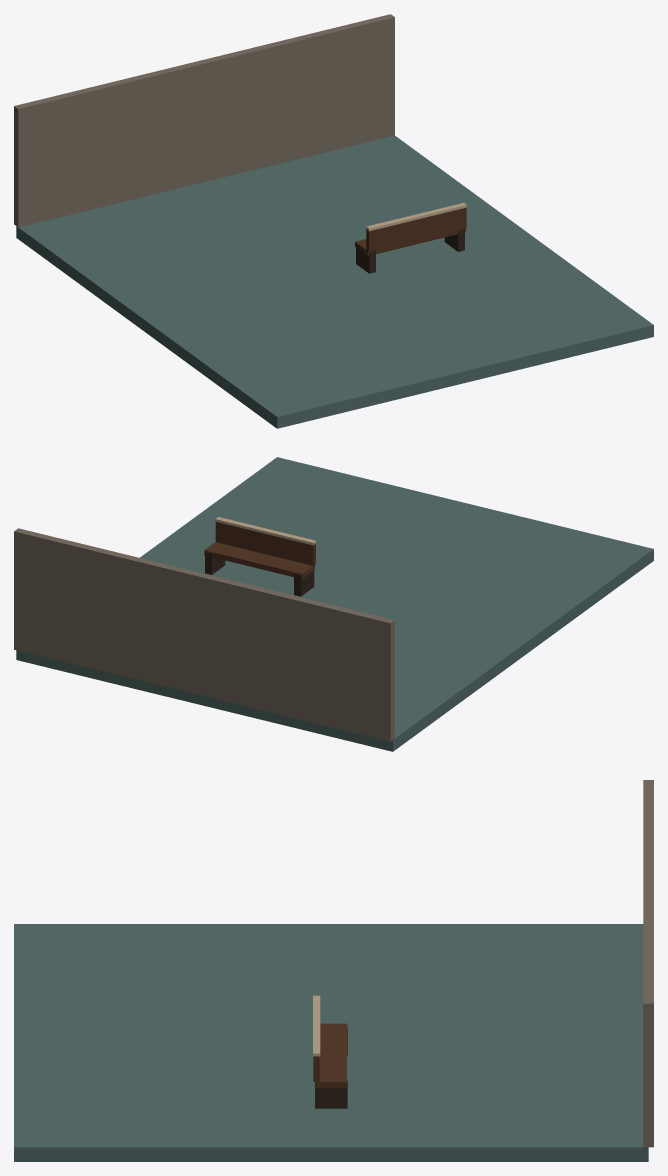
3 views of the same model, one above another, from view 1: azimuth 30°, elevation 25°; view 2: azimuth 150°, elevation 25°; view 3: azimuth 270°, elevation 25° (orthographic). The views are drawn at different scales.
Bounding box in the file's own units: 10 × 3.3 × 12.1.
